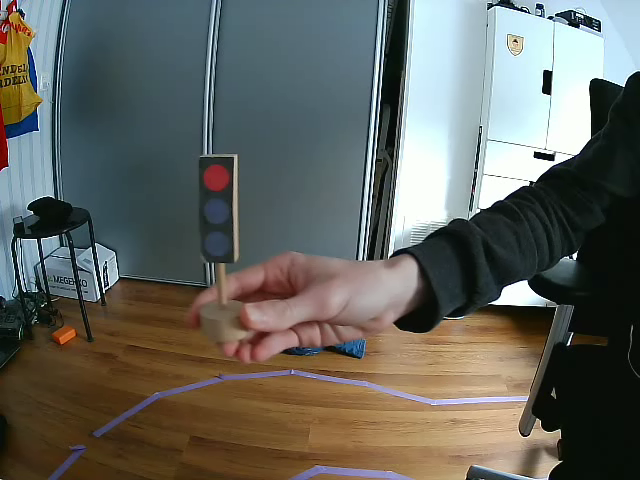roodlicht: (201, 155, 235, 263)
